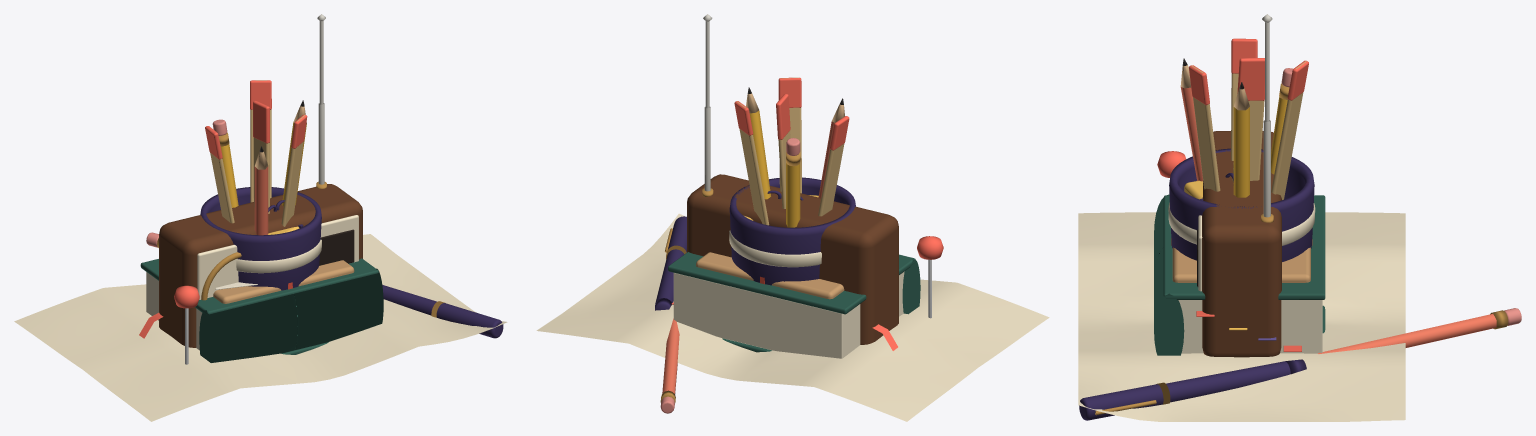
Rendered from props.glb.
3 renders of one model, left to right at view 1: azimuth 30°, elevation 25°; view 2: azimuth 150°, elevation 25°; view 3: azimuth 270°, elevation 25°, orthographic. The views are drawn at different scales.
Parts seen in each view (by area): view 1: map:sheet, words:spine, news:body, pick:cup, news:face, words:cover:board, free:box, ask:pen:cap, pick:band, news:dialplate, pick:s4:body, pick:s5:slip (+10 smaller); view 2: map:sheet, news:body, words:pages, pick:cup, words:cover:board, free:box, pick:band, pick:s1:slip, pick:s3:slip, pick:s2:body, solve:pencil:body, words:spine (+7 smaller); view 3: map:sheet, news:body, pick:cup, words:cover:board, words:pages, words:spine, ask:pen:barrel, solve:pencil:body, ask:pen:cap, free:box, pick:s0:body, pick:s5:slip (+12 smaller).
Boxes of the visible parts, x1,y1,x2,y2 form: map:sheet: (14,234,507,421); words:spine: (199,268,383,362); news:body: (159,184,362,347); pick:cup: (200,187,321,290); news:face: (197,215,358,299); words:cover:board: (140,258,378,314); free:box: (213,260,354,303); ask:pen:cap: (436,303,503,338); pick:band: (236,239,321,273); news:dialplate: (319,229,354,265); pick:s4:body: (254,166,268,235); pick:s5:slip: (281,115,304,226); map:sheet: (536,213,1049,421); news:body: (687,174,898,344); words:pages: (673,271,904,358); pick:cup: (729,177,855,285); words:cover:board: (668,252,915,314); free:box: (696,252,844,299); pick:band: (729,230,821,267); pick:s1:slip: (737,101,769,225); pick:s3:slip: (818,144,844,216); pick:s2:body: (786,163,800,227); solve:pencil:body: (662,318,679,394); words:spine: (902,259,920,314); map:sheet: (1078,212,1405,421); news:body: (1202,131,1281,357); pick:cup: (1169,148,1314,261); words:cover:board: (1163,195,1325,299); words:pages: (1178,300,1322,353); words:spine: (1154,194,1184,355); ask:pen:barrel: (1166,361,1290,402); solve:pencil:body: (1318,314,1496,353); ask:pen:cap: (1079,384,1163,420); free:box: (1172,247,1310,282); pick:s0:body: (1233,107,1249,197); pick:s5:slip: (1191,65,1220,191).
Bounding box in the file's own units: 2.7 × 2.12 × 2.44.
